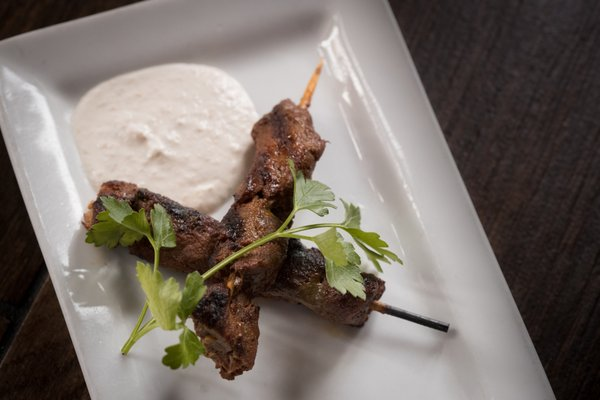soup: (71, 61, 376, 379), (71, 62, 260, 271)
